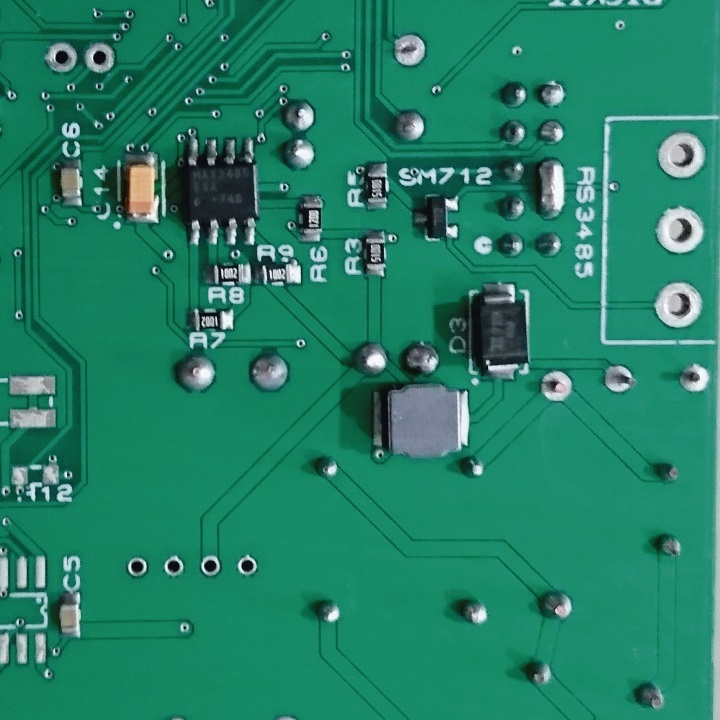F: (651, 278, 703, 333), (653, 203, 706, 256), (656, 129, 708, 182), (391, 31, 431, 71), (43, 37, 79, 81), (79, 39, 118, 78), (537, 366, 577, 404), (601, 362, 639, 396), (677, 361, 711, 396), (234, 552, 261, 582), (123, 553, 150, 580), (196, 554, 224, 580), (161, 554, 185, 581)
P: (535, 156, 567, 224)
